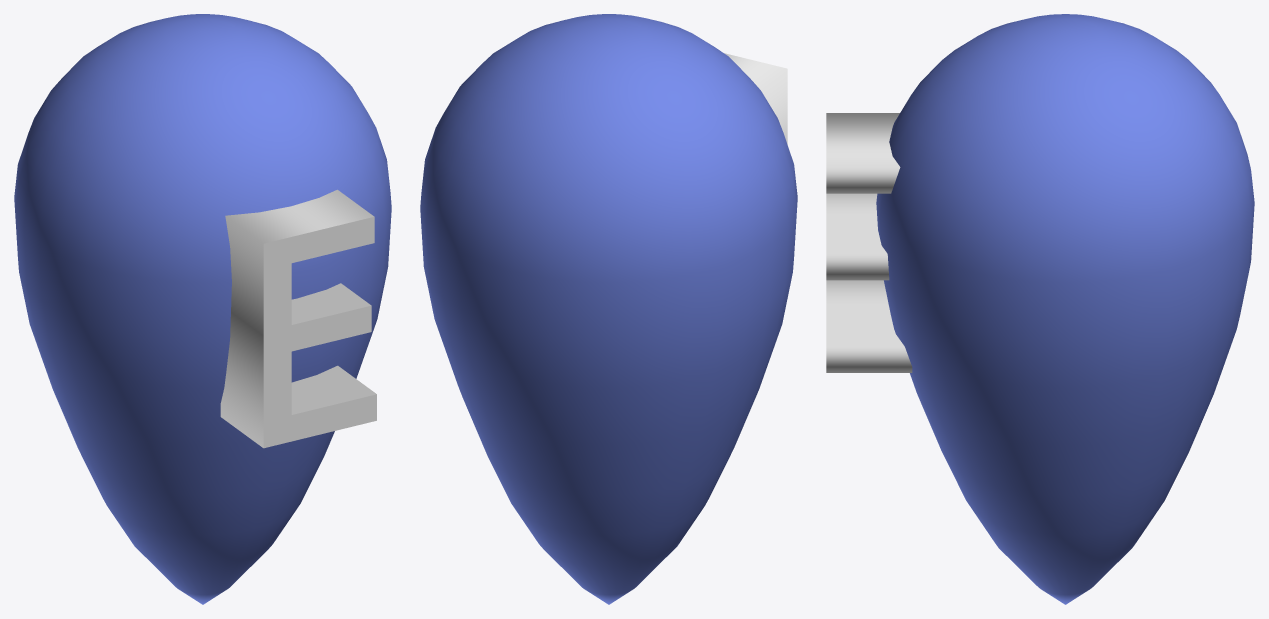
File: eEntrancePin.glb
3 renders of one model, left to right at view 1: azimuth 30°, elevation 25°; view 2: azimuth 150°, elevation 25°; view 3: azimuth 270°, elevation 25°, orthographic.
Visible parts, largest first — view 1: pin, Text.005; view 2: pin, Text.005; view 3: pin, Text.005.
Boxes of the visible parts, x1=… form: pin: x1=14, y1=14, x2=391, y2=604; Text.005: x1=220, y1=189, x2=376, y2=448; pin: x1=420, y1=14, x2=797, y2=604; Text.005: x1=724, y1=53, x2=787, y2=144; pin: x1=876, y1=14, x2=1254, y2=604; Text.005: x1=826, y1=113, x2=912, y2=372.
Bounding box in the file's own units: 0.2435 × 0.4072 × 0.2757.
